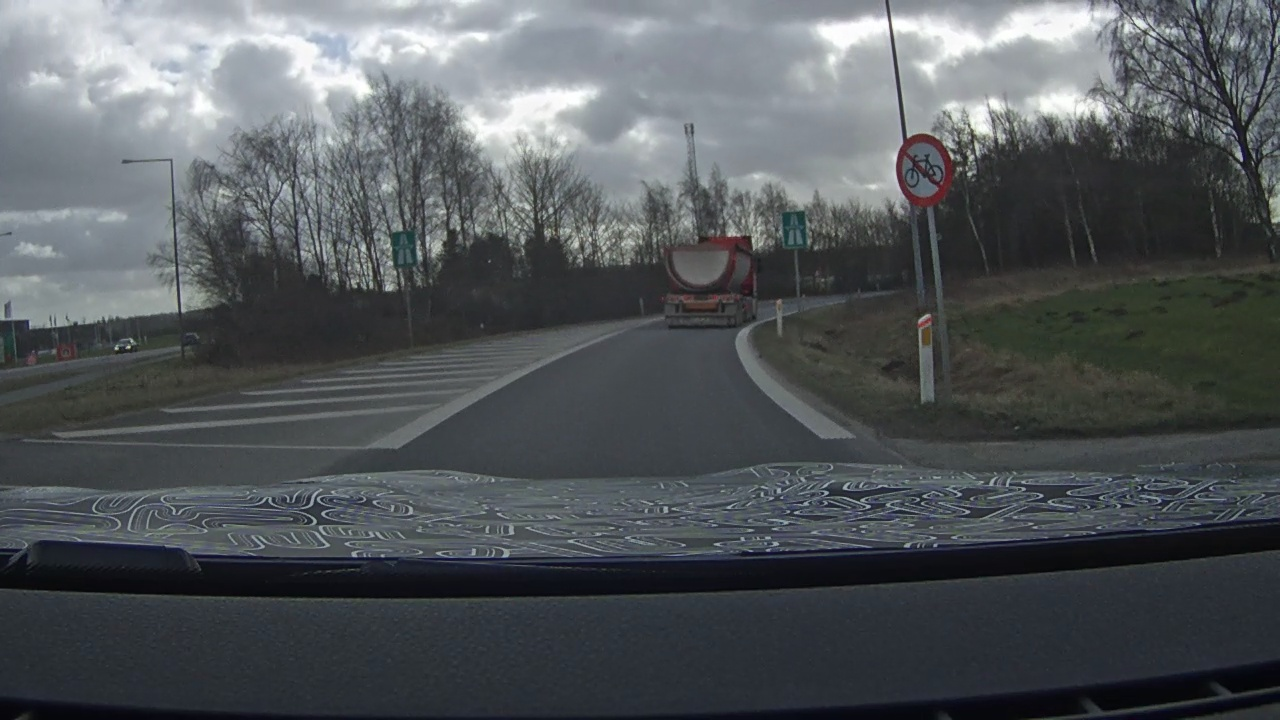Motorway_Begin: (780, 209, 808, 249), (391, 230, 417, 268)
